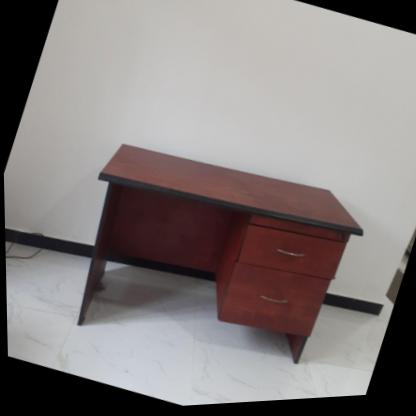Table: (30, 106, 388, 415)
